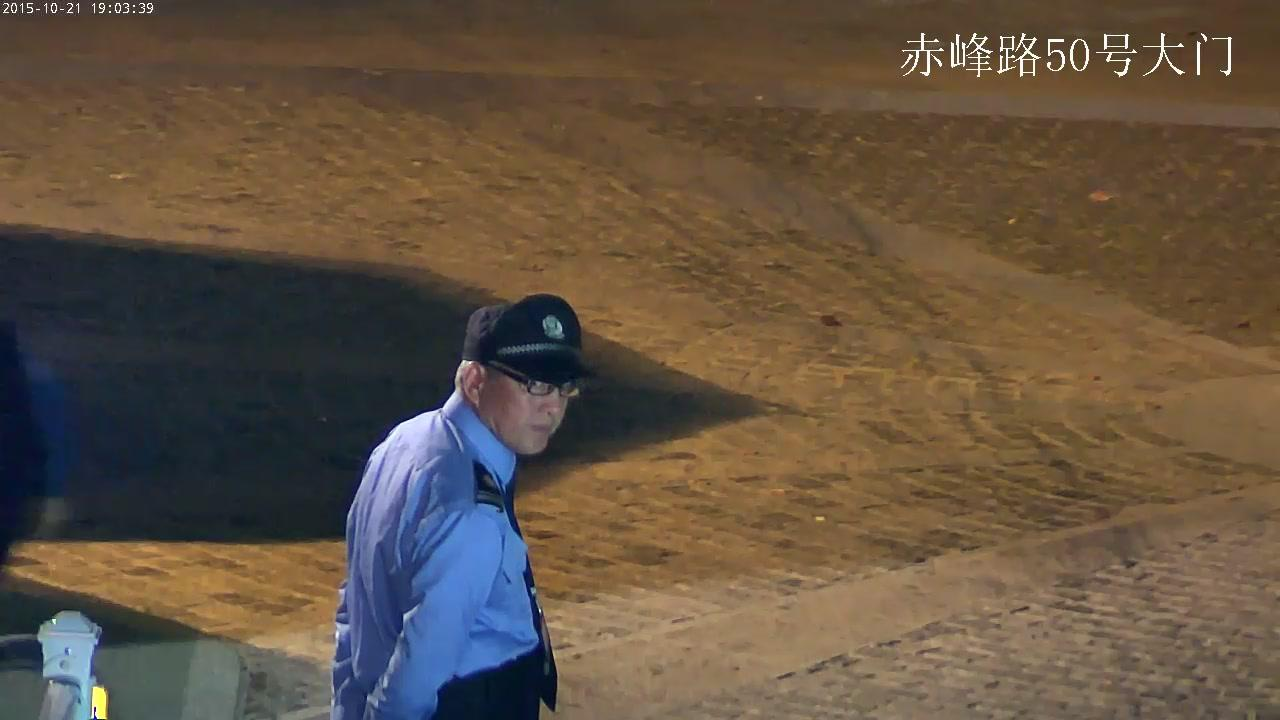face: (484, 362, 572, 455)
